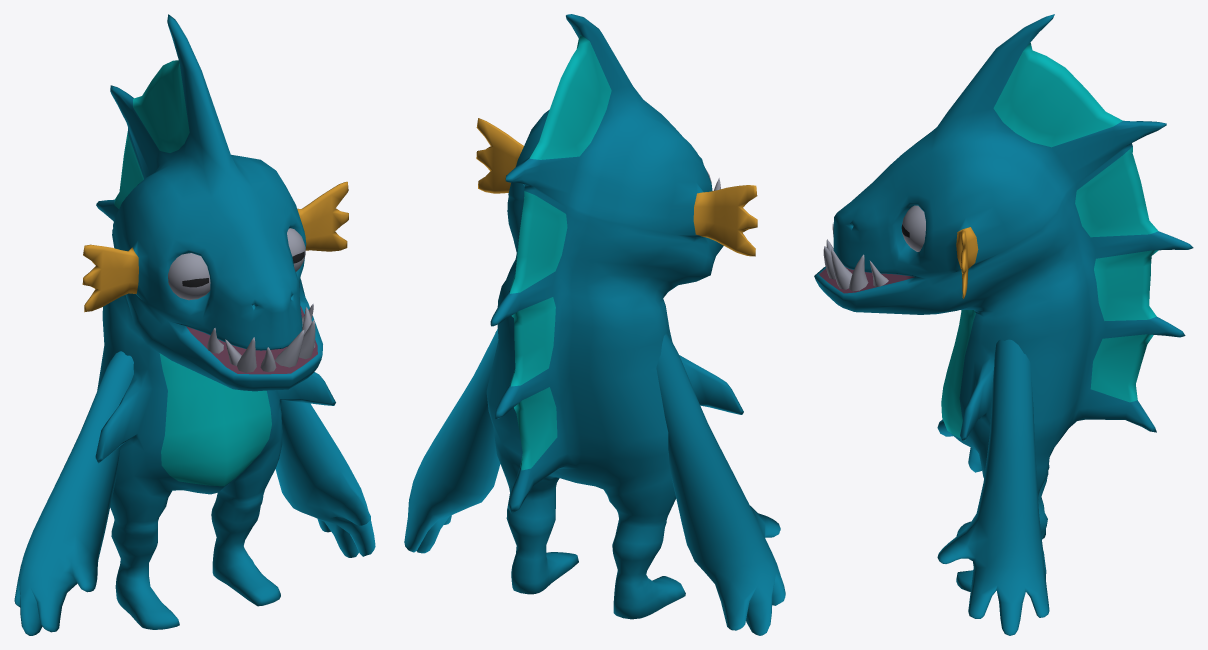
The model's file is Fish.glb.
3 renders of one model, left to right at view 1: azimuth 30°, elevation 25°; view 2: azimuth 150°, elevation 25°; view 3: azimuth 270°, elevation 25°, orthographic. The views are drawn at different scales.
Parts seen in each view (by area): view 1: SK_Fish; view 2: SK_Fish; view 3: SK_Fish.
Boxes of the visible parts, box(x1,y1,x2,y2) form: SK_Fish: box(14, 14, 375, 635); SK_Fish: box(404, 14, 785, 635); SK_Fish: box(814, 14, 1193, 635).
Size of the model in its own units: 2.36 by 3.76 by 2.36.
1 material, 1 textured.
